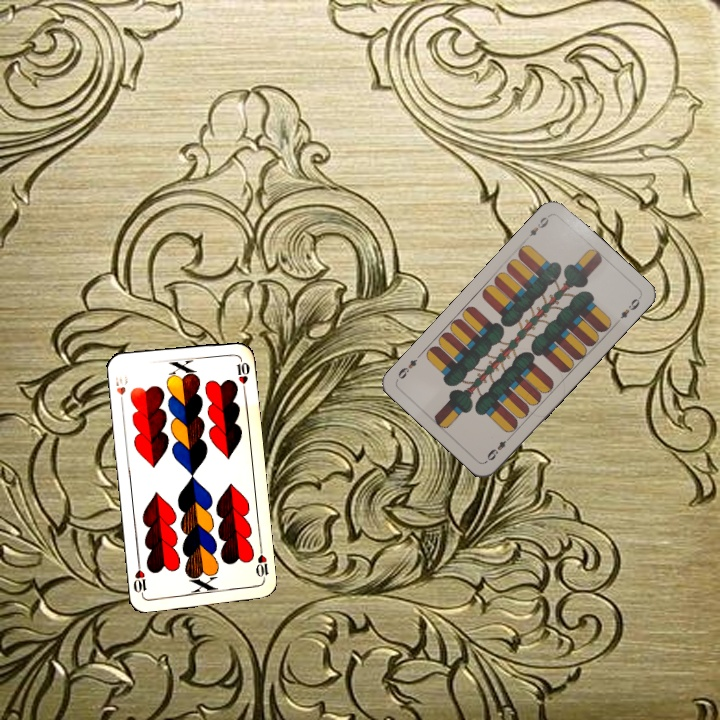E9: (521, 211, 553, 243), (483, 431, 514, 463)
H10: (251, 544, 271, 584), (111, 370, 131, 408)
